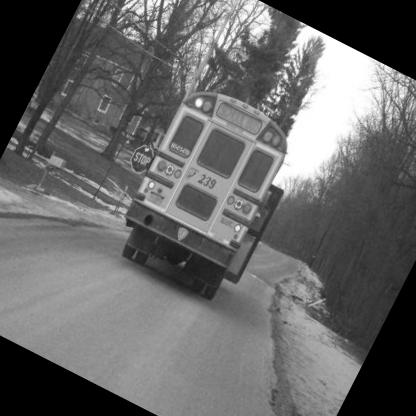bus: (101, 65, 326, 309)
